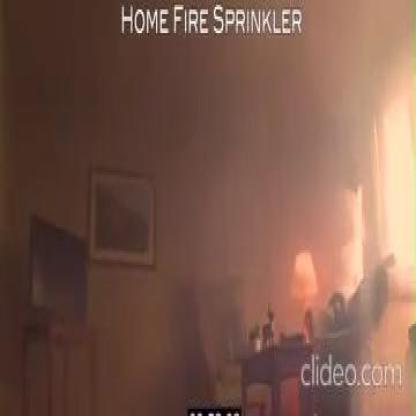fire: (302, 321, 308, 343)
